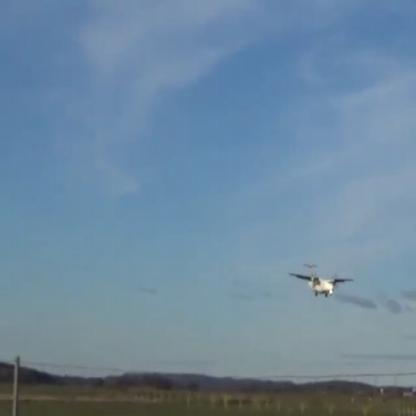CIV_Plane: (288, 268, 354, 298)
